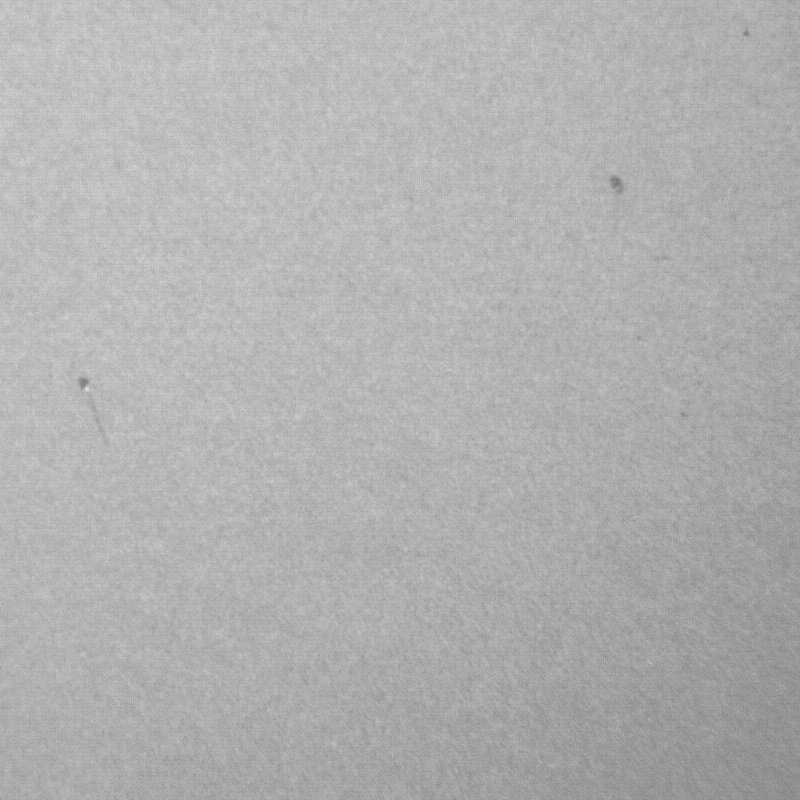defect: (77, 377, 117, 452), (598, 175, 635, 197), (739, 29, 752, 41)
